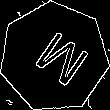M_SW: (21, 23, 87, 91)
